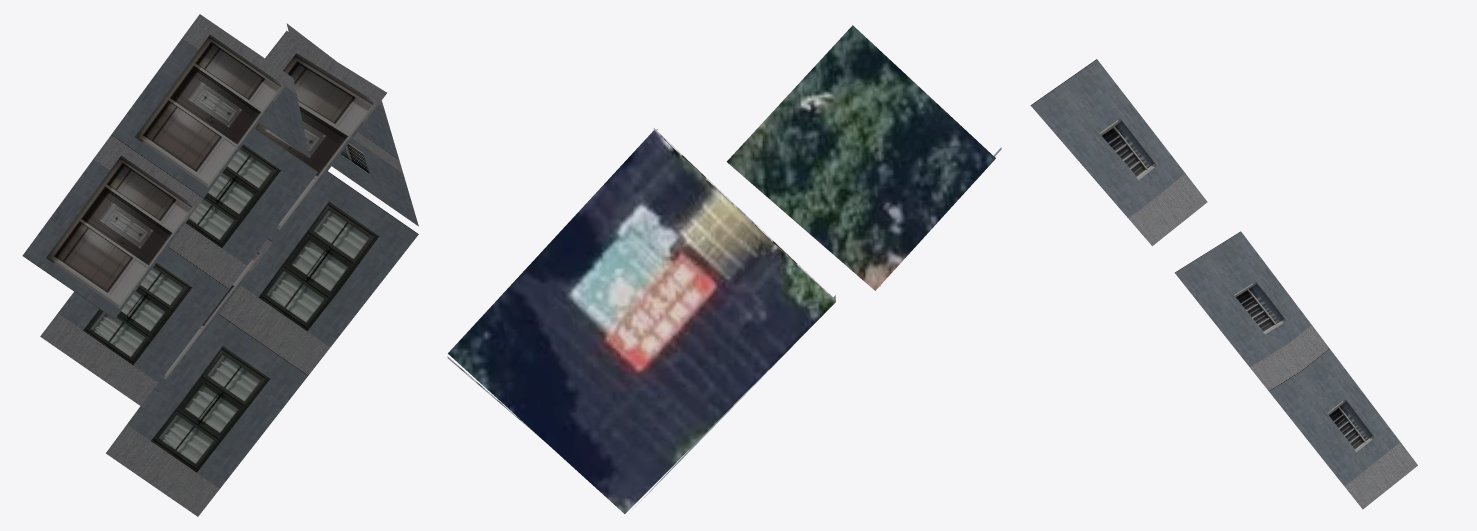
The model's file is tile_LOD4_r14_c12.glb.
The picture shows the model from 3 angles, left to right: view 1: azimuth 30°, elevation 25°; view 2: azimuth 150°, elevation 25°; view 3: azimuth 270°, elevation 25°; orthographic projection. The views are drawn at different scales.
Size of the model in its own units: 21.5 by 22.25 by 19.5.
Materials: 5 (5 with a texture image).
